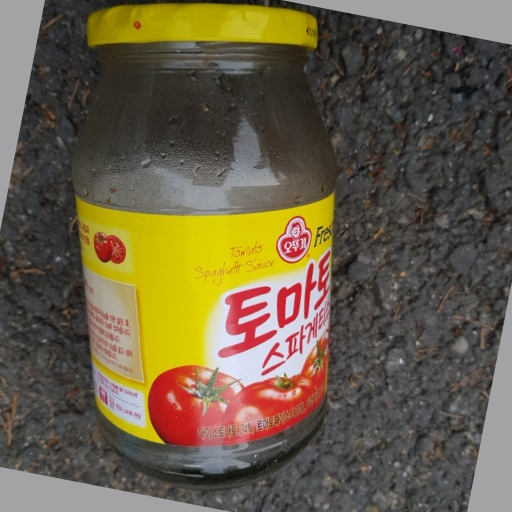Glass_5: (76, 1, 340, 479)
